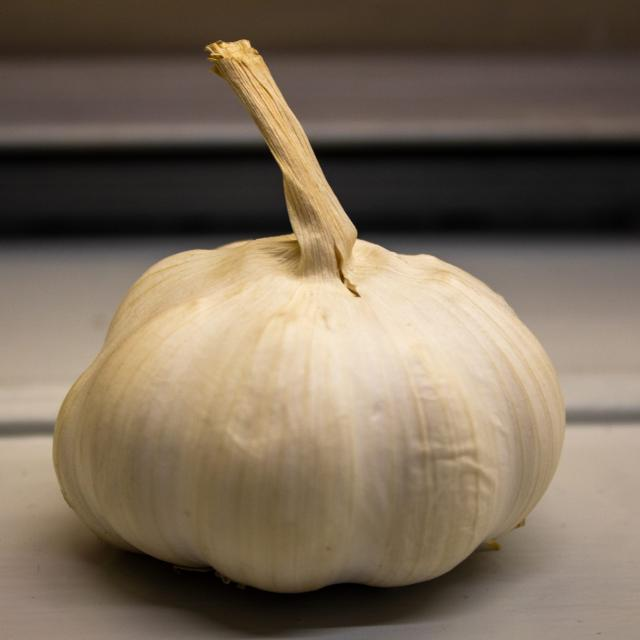garlic: (45, 217, 572, 601)
